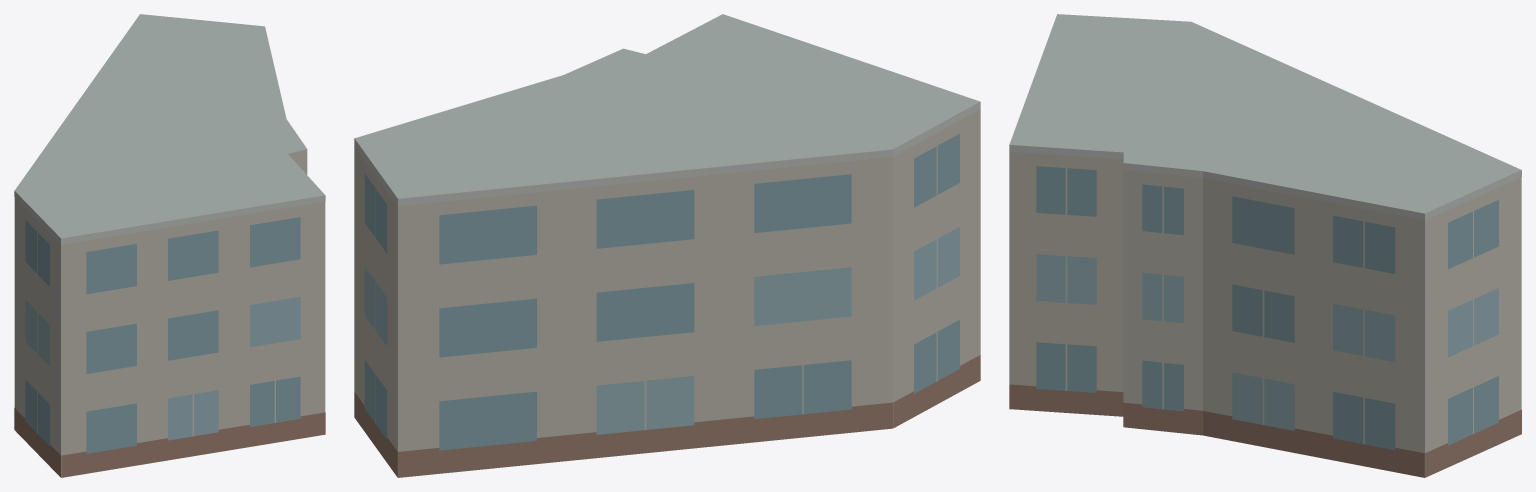
Rendered from survey-upis-32490740.glb.
3 views of the same model, side by side, from view 1: azimuth 30°, elevation 25°; view 2: azimuth 150°, elevation 25°; view 3: azimuth 270°, elevation 25° (orthographic). The views are drawn at different scales.
Parts seen in each view (by area): view 1: survey-upis-32490740.tmp; view 2: survey-upis-32490740.tmp; view 3: survey-upis-32490740.tmp.
Boxes of the visible parts, bbox=[...] form: survey-upis-32490740.tmp: bbox=[14, 14, 325, 477]; survey-upis-32490740.tmp: bbox=[354, 14, 980, 477]; survey-upis-32490740.tmp: bbox=[1009, 14, 1521, 477].
Bounding box in the file's own units: 14.83 × 9.15 × 16.09.
